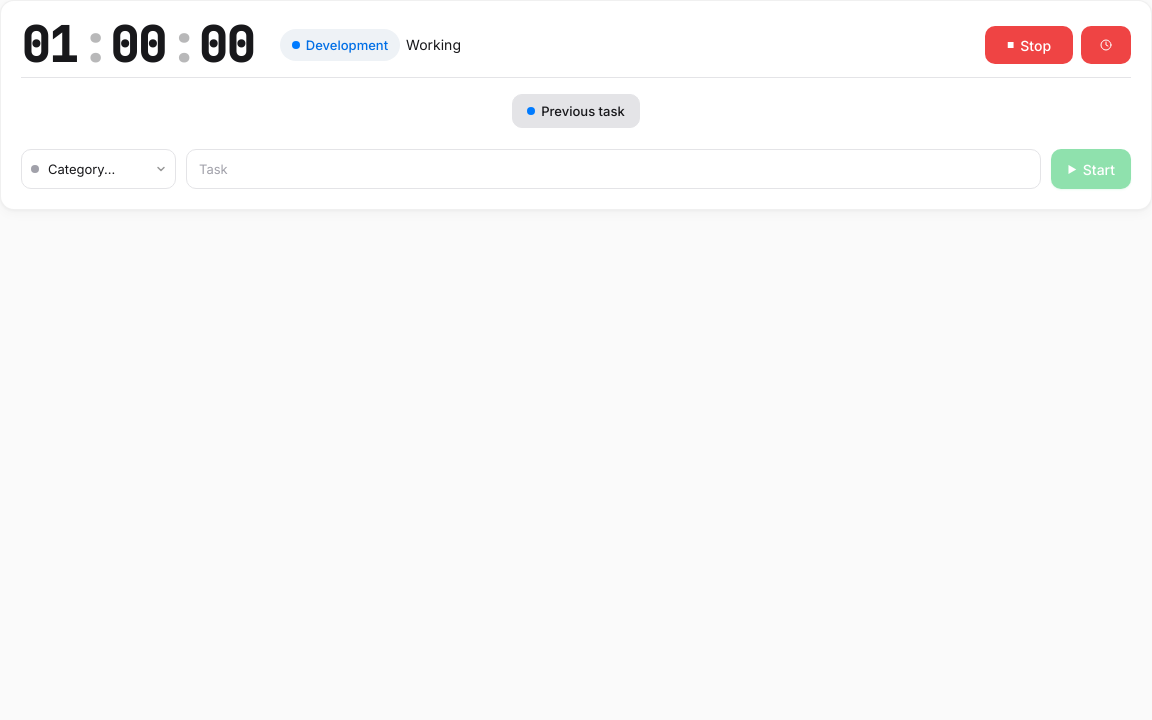
Test: Modal suggestion mouse interactions › Schedule Stop - past time support › shows "Set Stop Time" as the modal title
// Click the schedule stop button (clock icon)
Click the button titled "Schedule end time": (1106, 45) [1081,26,1131,64]
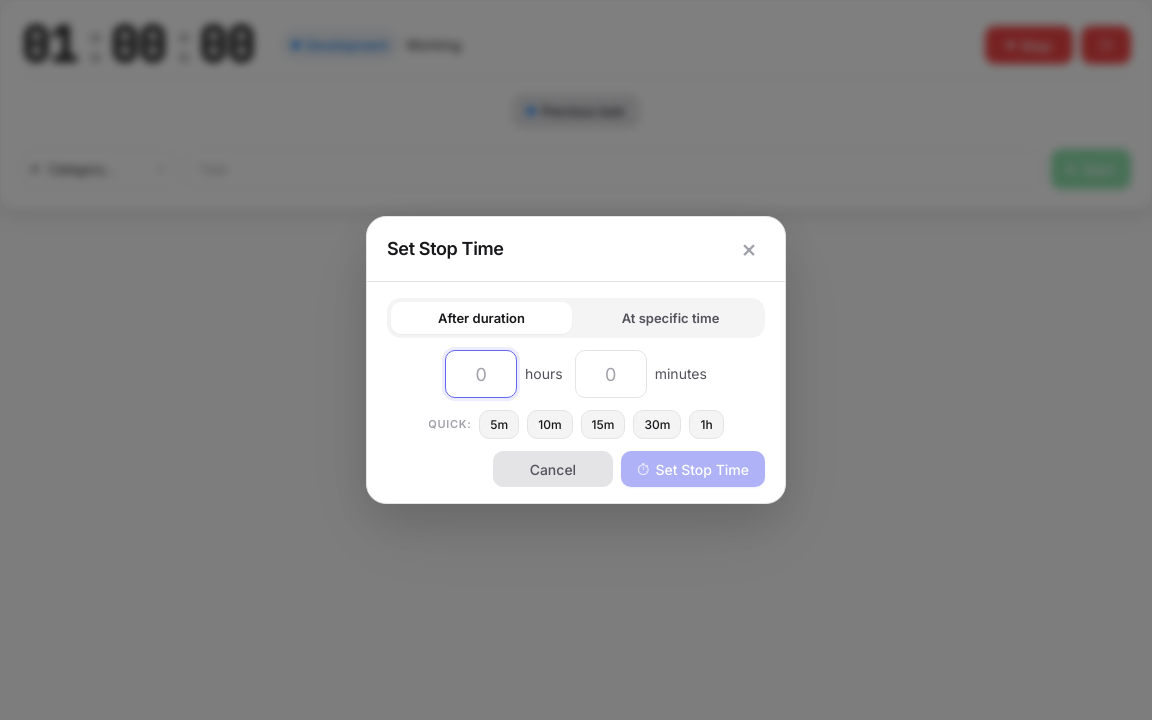
Expected: the heading "Set Stop Time" is shown, [387,237,504,261]
